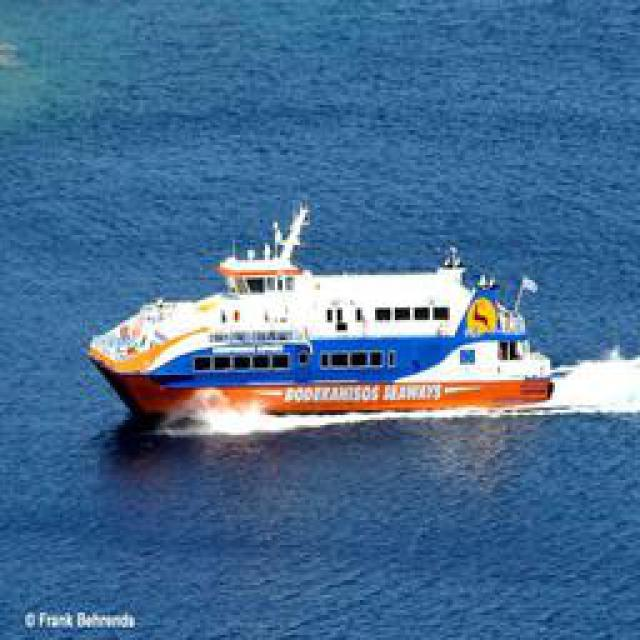Ship: (96, 200, 566, 435)
